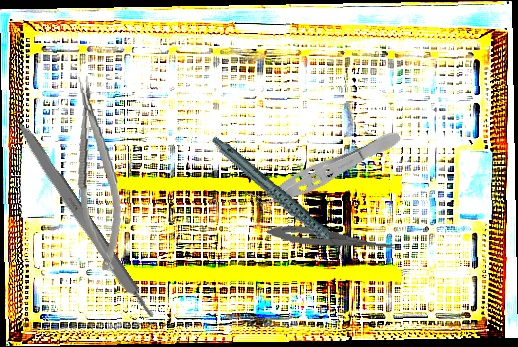Handpiece: (210, 113, 349, 284)
Micro Scissor: (266, 222, 401, 255)
Needle Holder: (68, 74, 127, 272)
Scalpel Handle: (9, 116, 157, 324)
Tissue Forceps: (244, 122, 406, 218)
